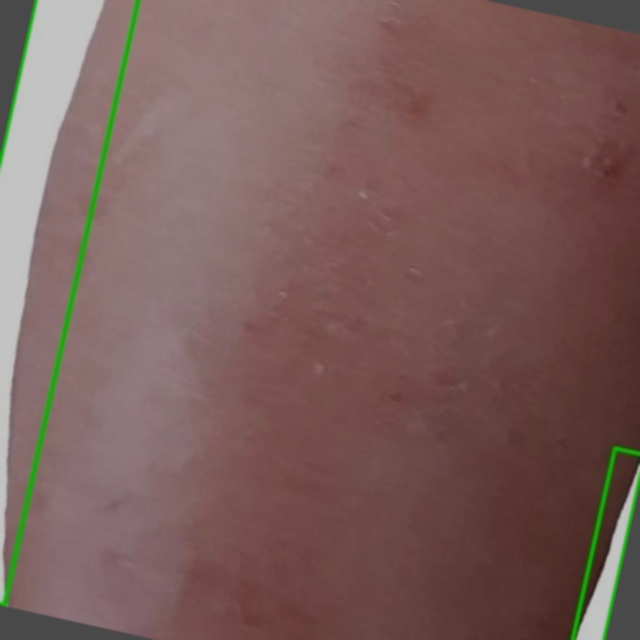Contact Dermatitis: (572, 449, 639, 639)
